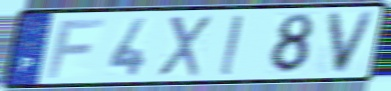4: (105, 16, 148, 79)
8: (265, 11, 314, 77)
F: (44, 16, 108, 80)
I: (218, 13, 245, 77)
V: (324, 9, 379, 76)
X: (155, 14, 214, 79)
